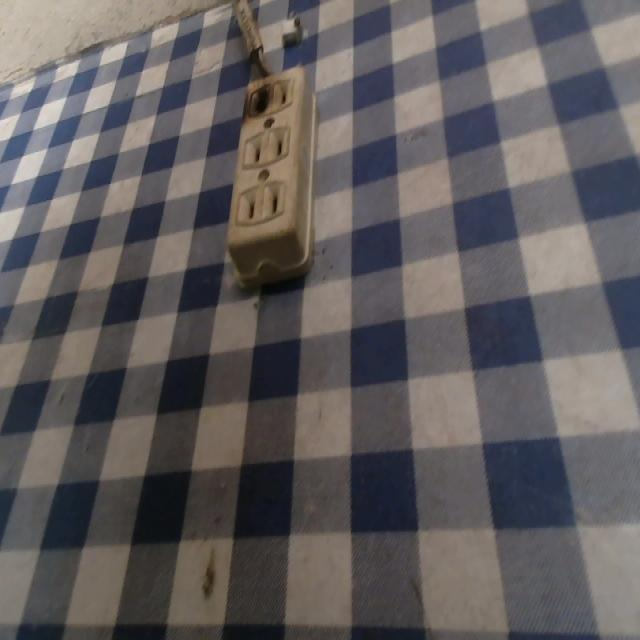-: (236, 68, 276, 125)
